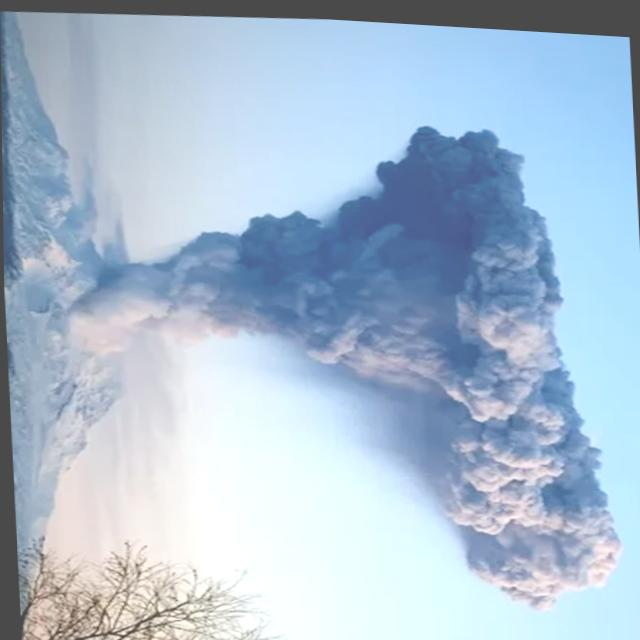Smoke: (61, 98, 622, 619)
